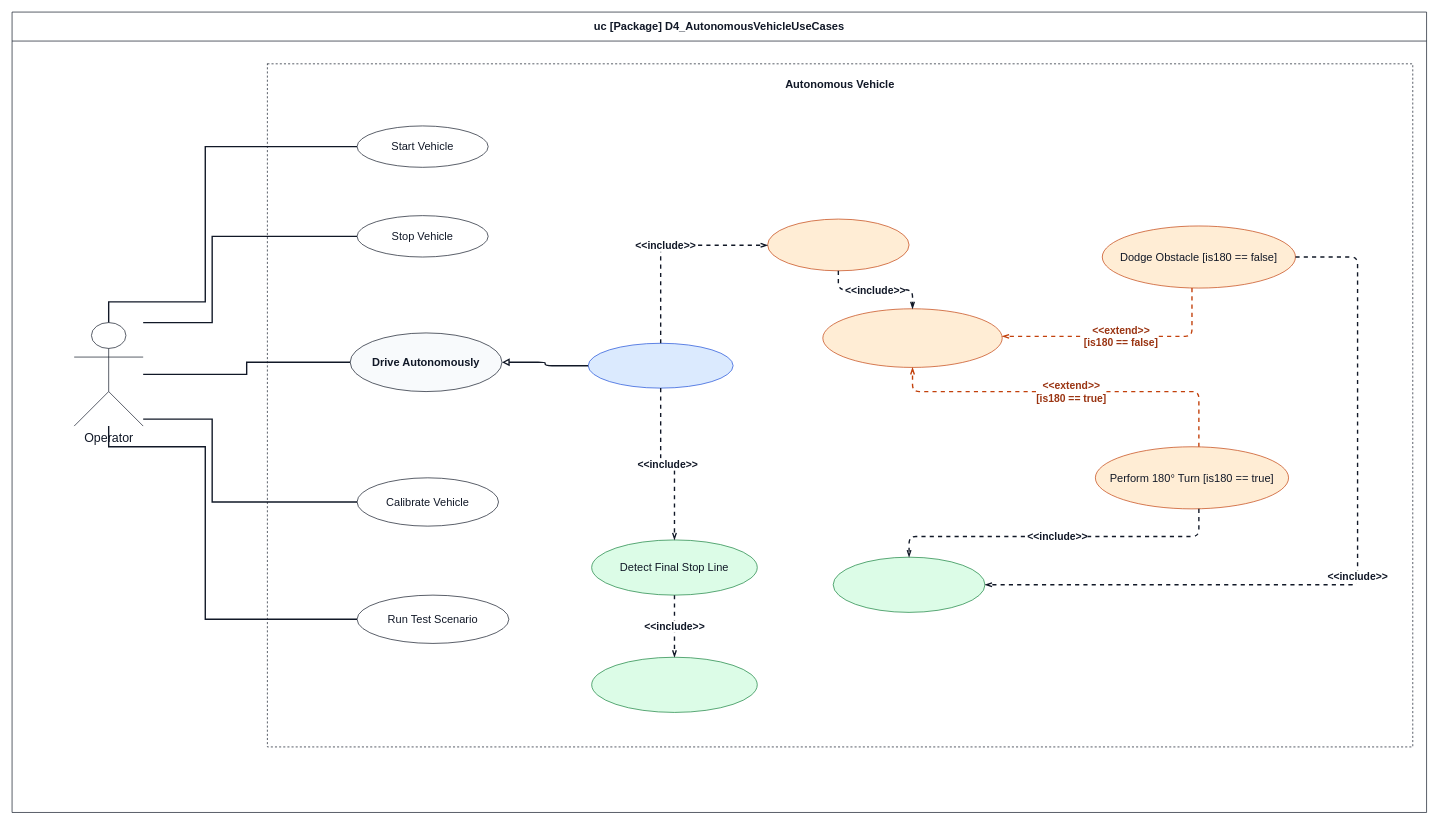
This 1439x825 diagram has some shape labels left out. Here are the shapes that lost their labels. From the top down, the centre of each, then its label:
At point 838,244: "Detect Obstacle".
At point 912,337: "Respond to Obstacle Pattern".
At point 660,365: "Follow Lane".
At point 908,584: "Reacquire Line".
At point 674,684: "Complete Mission".
